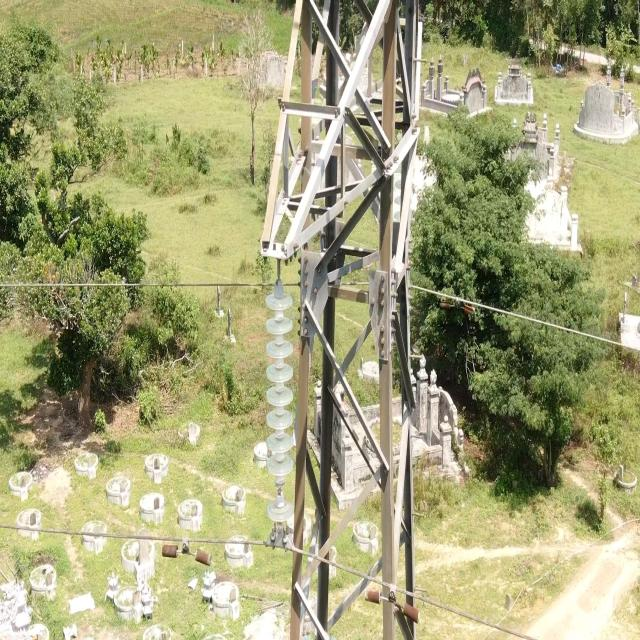杆塔: (258, 0, 444, 640)
正常电缆: (292, 535, 569, 640), (405, 272, 640, 373), (0, 512, 286, 554), (0, 273, 279, 296)
正常绝缘子: (260, 269, 294, 543)
绝缘子破损: (274, 478, 286, 503)
